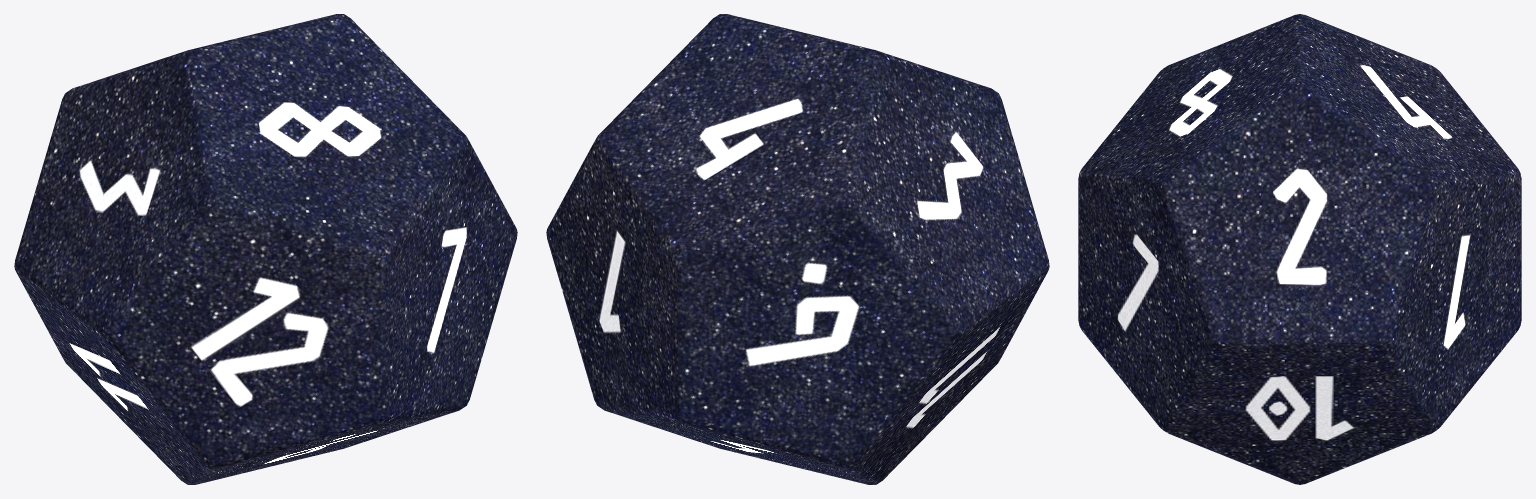
The model's file is dicemodel_d12.gltf.
3 views of the same model, side by side, from view 1: azimuth 30°, elevation 25°; view 2: azimuth 150°, elevation 25°; view 3: azimuth 270°, elevation 25° (orthographic). The views are drawn at different scales.
Parts seen in each view (by area): view 1: dicemodel_d12; view 2: dicemodel_d12; view 3: dicemodel_d12.
Boxes of the visible parts, x1,y1,x2,y2 form: dicemodel_d12: [14, 14, 517, 484]; dicemodel_d12: [546, 14, 1049, 484]; dicemodel_d12: [1078, 14, 1521, 484].
Size of the model in its own units: 165 by 165 by 165.
Materials: 1 (1 with a texture image).
